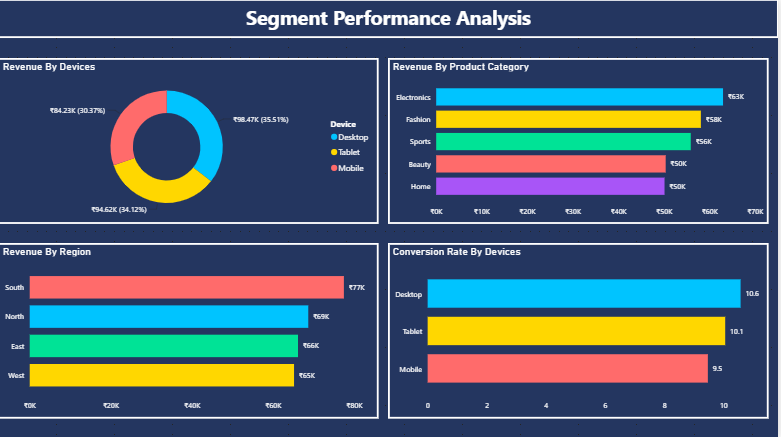

The page's visual inventory and layout, read from the dashboard file:
{"tool":"powerbi","page":{"name":"Segment Analysis","canvas":[1280,720],"ordinal":2},"visuals":[{"type":"textbox","box":[0,0,1280,64],"z":0},{"type":"donutChart","title":"Revenue By Devices","fields":{"Y":["channel_summary.Total Revenue"],"Category":["cleaned_funnel_data.Device"]},"box":[0,96,624,272],"z":1},{"type":"clusteredBarChart","title":"Revenue By Product Category","fields":{"Y":["channel_summary.Total Revenue"],"Category":["cleaned_funnel_data.Product_Category"]},"box":[640,96,624,272],"z":2},{"type":"clusteredBarChart","title":"Revenue By Region","fields":{"Y":["channel_summary.Total Revenue"],"Category":["cleaned_funnel_data.Region"]},"box":[0,400,624,288],"z":3},{"type":"clusteredBarChart","title":"Conversion Rate By Devices","fields":{"Y":["channel_summary.Overall Conversion Rate"],"Category":["cleaned_funnel_data.Device"]},"box":[640,400,624,288],"z":4}]}

Visuals, with their boxes in screenshot pixels (x1, y1, x2, y2), scaled from the page's 1280x720 canvas onto the 781x437 screenshot:
textbox: x1=0, y1=0, x2=780, y2=39
"Revenue By Devices" donutChart: x1=0, y1=58, x2=381, y2=223
"Revenue By Product Category" clusteredBarChart: x1=390, y1=58, x2=771, y2=223
"Revenue By Region" clusteredBarChart: x1=0, y1=243, x2=381, y2=418
"Conversion Rate By Devices" clusteredBarChart: x1=390, y1=243, x2=771, y2=418
